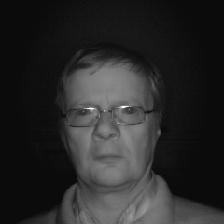normal: (50, 41, 167, 197)
